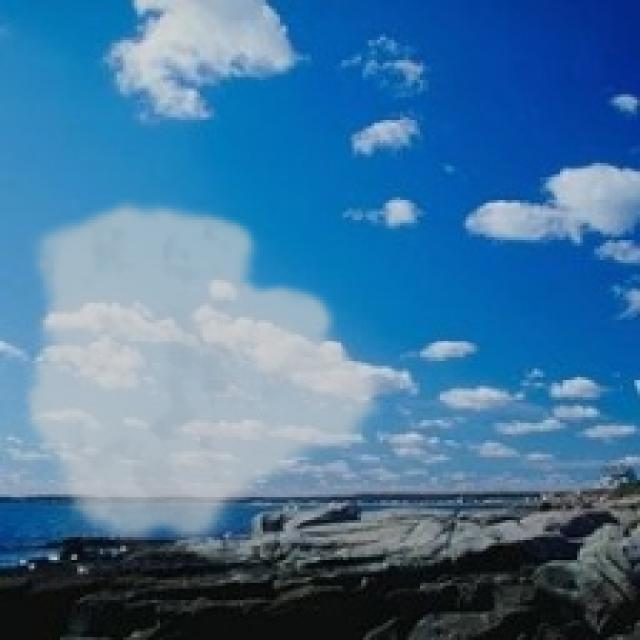Smoke: (20, 197, 389, 554)
